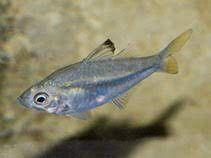Glass Perchlet: (17, 29, 192, 120)
